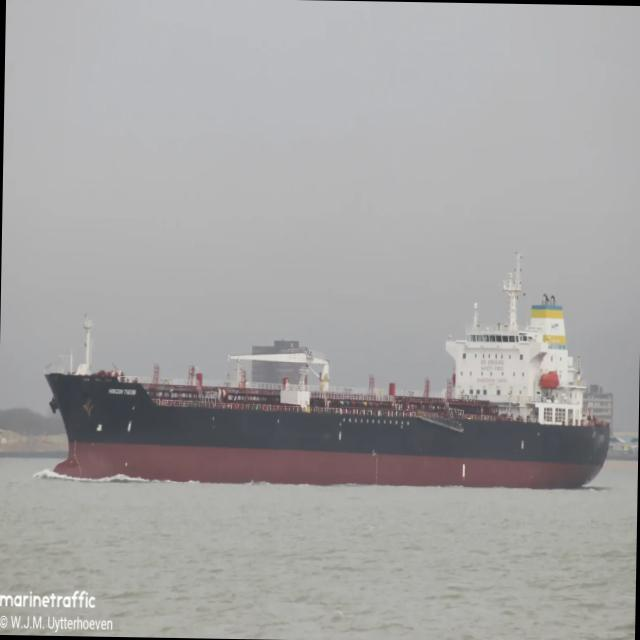Tanker: (45, 261, 609, 487)
